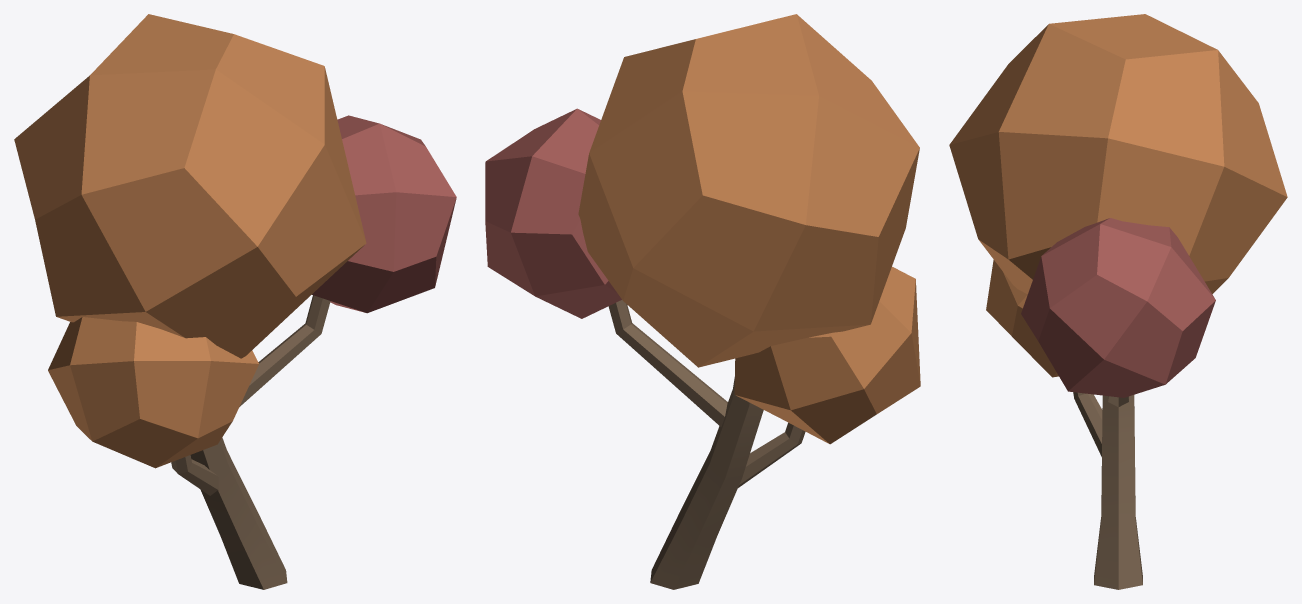
The model's file is Tree_04.fbx.
3 renders of one model, left to right at view 1: azimuth 30°, elevation 25°; view 2: azimuth 150°, elevation 25°; view 3: azimuth 270°, elevation 25°, orthographic. The views are drawn at different scales.
Visible parts, largest first — view 1: pCylinder356; view 2: pCylinder356; view 3: pCylinder356.
Boxes of the visible parts, x1,y1,x2,y2 form: pCylinder356: (14,14,456,589); pCylinder356: (485,14,920,589); pCylinder356: (949,14,1287,589).
Bounding box in the file's own units: 8.26 × 11.08 × 6.55.
